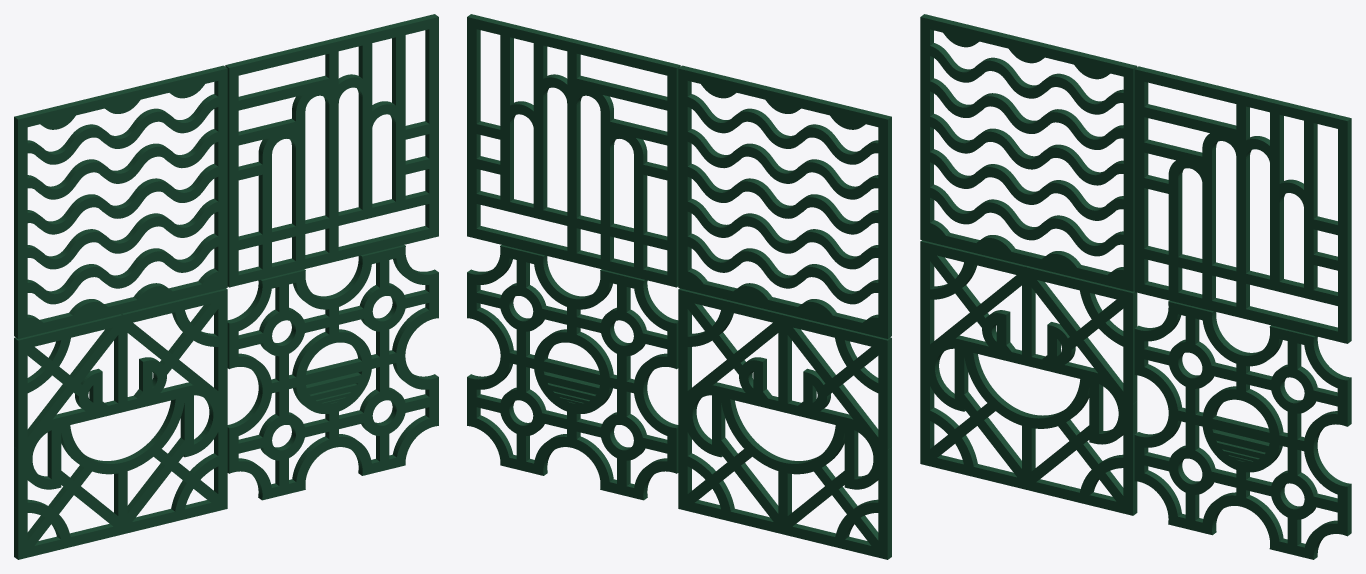
File: cobogo.glb
3 views of the same model, side by side, from view 1: azimuth 30°, elevation 25°; view 2: azimuth 150°, elevation 25°; view 3: azimuth 330°, elevation 25° (orthographic).
Visible parts, largest first — view 1: bloco2, bloco3, bloco1, bloco0; view 2: bloco2, bloco3, bloco1, bloco0; view 3: bloco2, bloco3, bloco1, bloco0.
Boxes of the visible parts, box(x1,y1,x2,y2) form: bloco2: box(14, 288, 227, 559); bloco3: box(227, 245, 438, 500); bloco1: box(225, 14, 438, 287); bloco0: box(14, 65, 227, 338); bloco2: box(678, 288, 891, 559); bloco3: box(467, 245, 678, 500); bloco1: box(467, 14, 680, 287); bloco0: box(678, 65, 891, 338); bloco2: box(920, 240, 1137, 515); bloco3: box(1134, 300, 1351, 559); bloco1: box(1134, 66, 1351, 343); bloco0: box(920, 14, 1137, 291).
Bounding box in the file's own units: 3.01 × 3.01 × 0.05.
